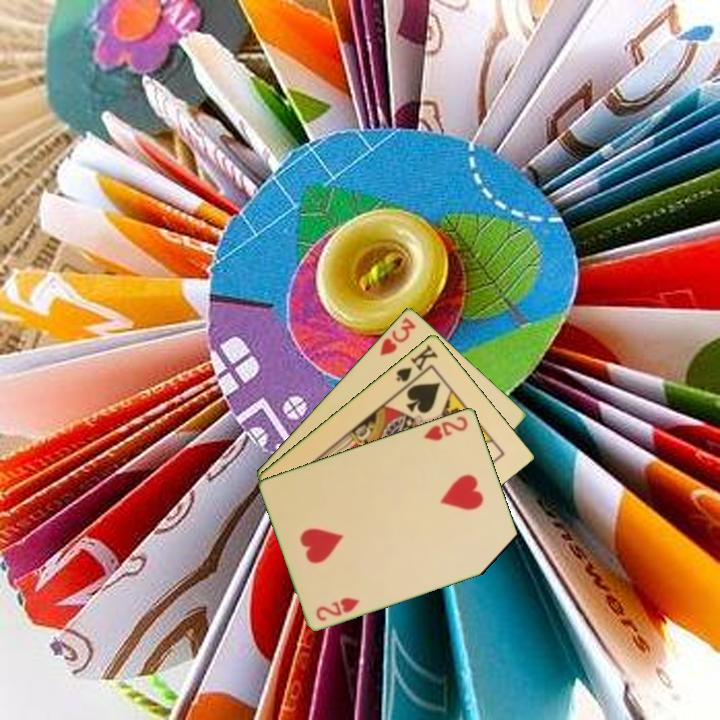2h: (420, 412, 471, 443), (312, 593, 362, 623)
3h: (376, 314, 419, 359)
Ks: (392, 341, 441, 384)
